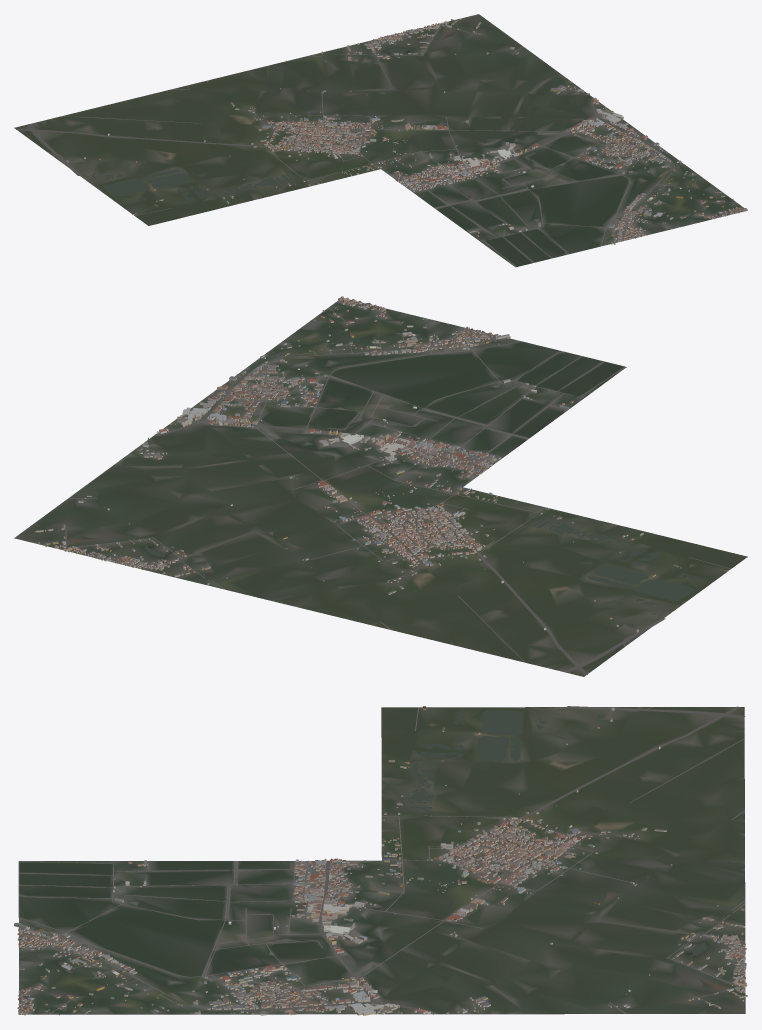
3 renders of one model, top to bottom at view 1: azimuth 30°, elevation 25°; view 2: azimuth 150°, elevation 25°; view 3: azimuth 270°, elevation 25°, orthographic. The views are drawn at different scales.
Parts seen in each view (by area): view 1: ground, buildings, roads, water; view 2: ground, buildings, roads, water; view 3: ground, buildings, roads, water.
Part boxes in pixels (box(x1,y1,x2,y2)): ground: box(14, 14, 746, 267); buildings: box(66, 18, 747, 244); roads: box(16, 23, 742, 267); water: box(78, 32, 693, 223); ground: box(14, 298, 747, 676); buildings: box(34, 296, 729, 632); roads: box(61, 300, 730, 675); water: box(74, 336, 707, 626); ground: box(18, 707, 745, 1014); buildings: box(14, 706, 747, 1015); roads: box(19, 706, 745, 1014); water: box(120, 710, 734, 1014).
Size of the model in its own units: 2828 by 25.59 by 2833.
